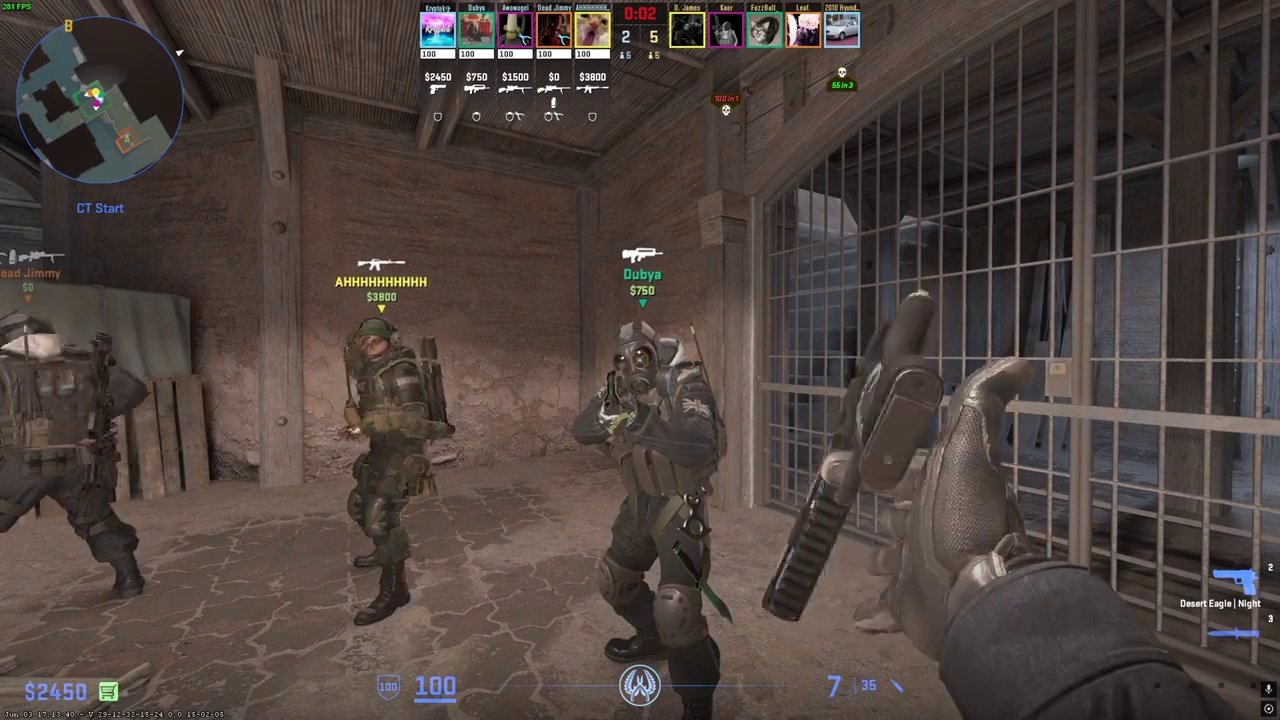CT: (575, 319, 734, 720), (0, 309, 149, 602), (342, 316, 445, 625)
